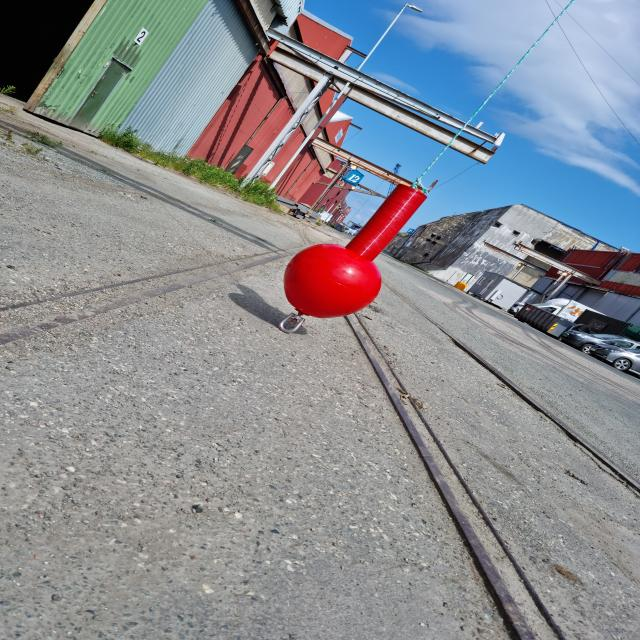red: (284, 187, 428, 318)
